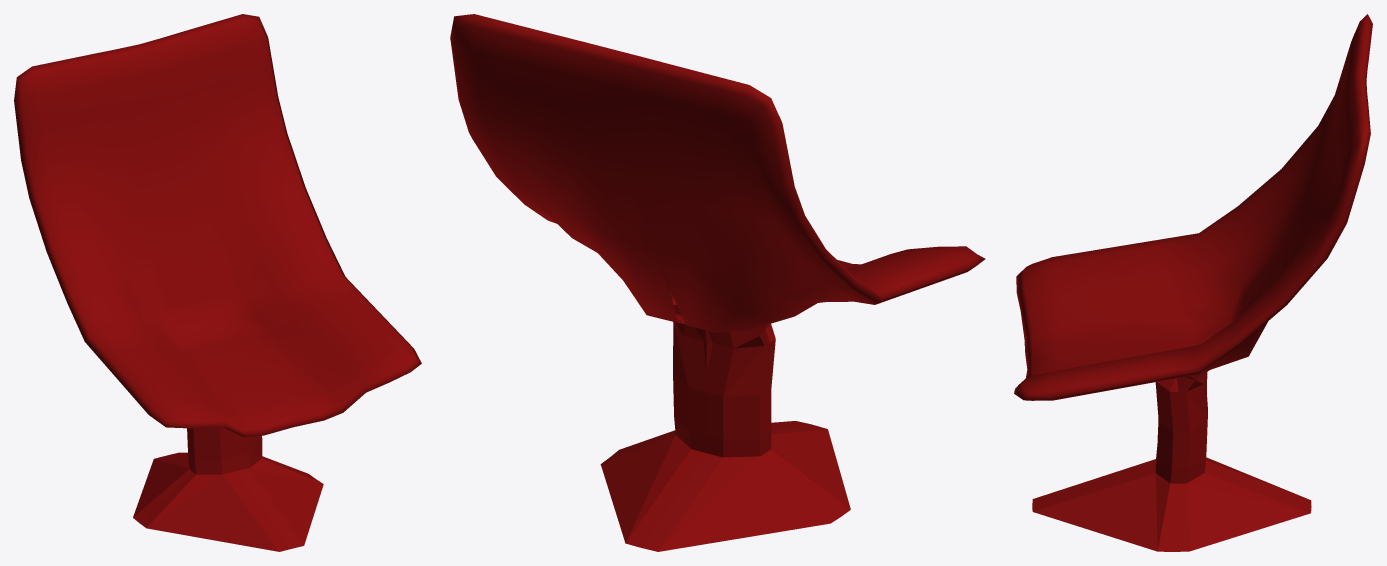
The model's file is chair.DAE.
3 views of the same model, side by side, from view 1: azimuth 30°, elevation 25°; view 2: azimuth 150°, elevation 25°; view 3: azimuth 270°, elevation 25° (orthographic). The views are drawn at different scales.
Parts seen in each view (by area): view 1: Box001; view 2: Box001; view 3: Box001.
Boxes of the visible parts, box(x1,y1,x2,y2) form: Box001: box(14, 14, 421, 551); Box001: box(450, 14, 985, 551); Box001: box(1014, 14, 1372, 551).
Bounding box in the file's own units: 18.41 × 19.78 × 26.54.
